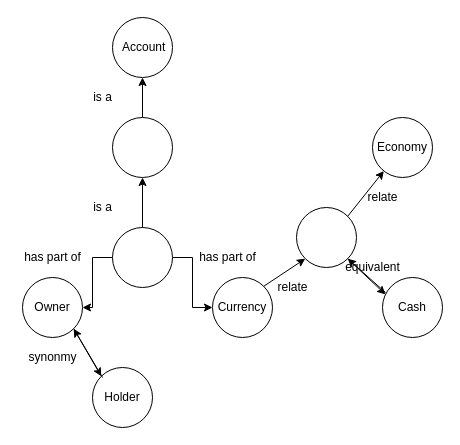
Some shapes in this 460 by 445 pixel diagram are drawn without their labels. Here are the shapes that lost their labels. From the top down, the centre of each, then its label:
(142,147): Bank Account
(142,257): Saving Account
(326,237): Money
